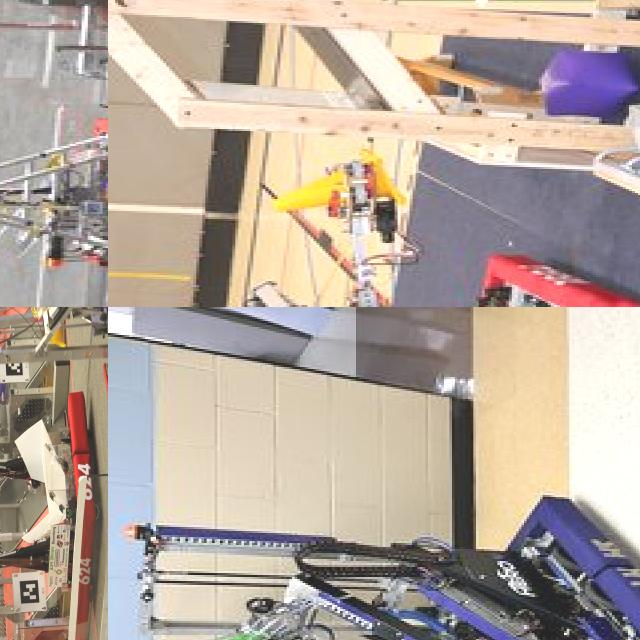FRC-Robots: (119, 477, 640, 640), (163, 186, 640, 307), (0, 28, 108, 304), (0, 414, 108, 639), (0, 307, 108, 408)
